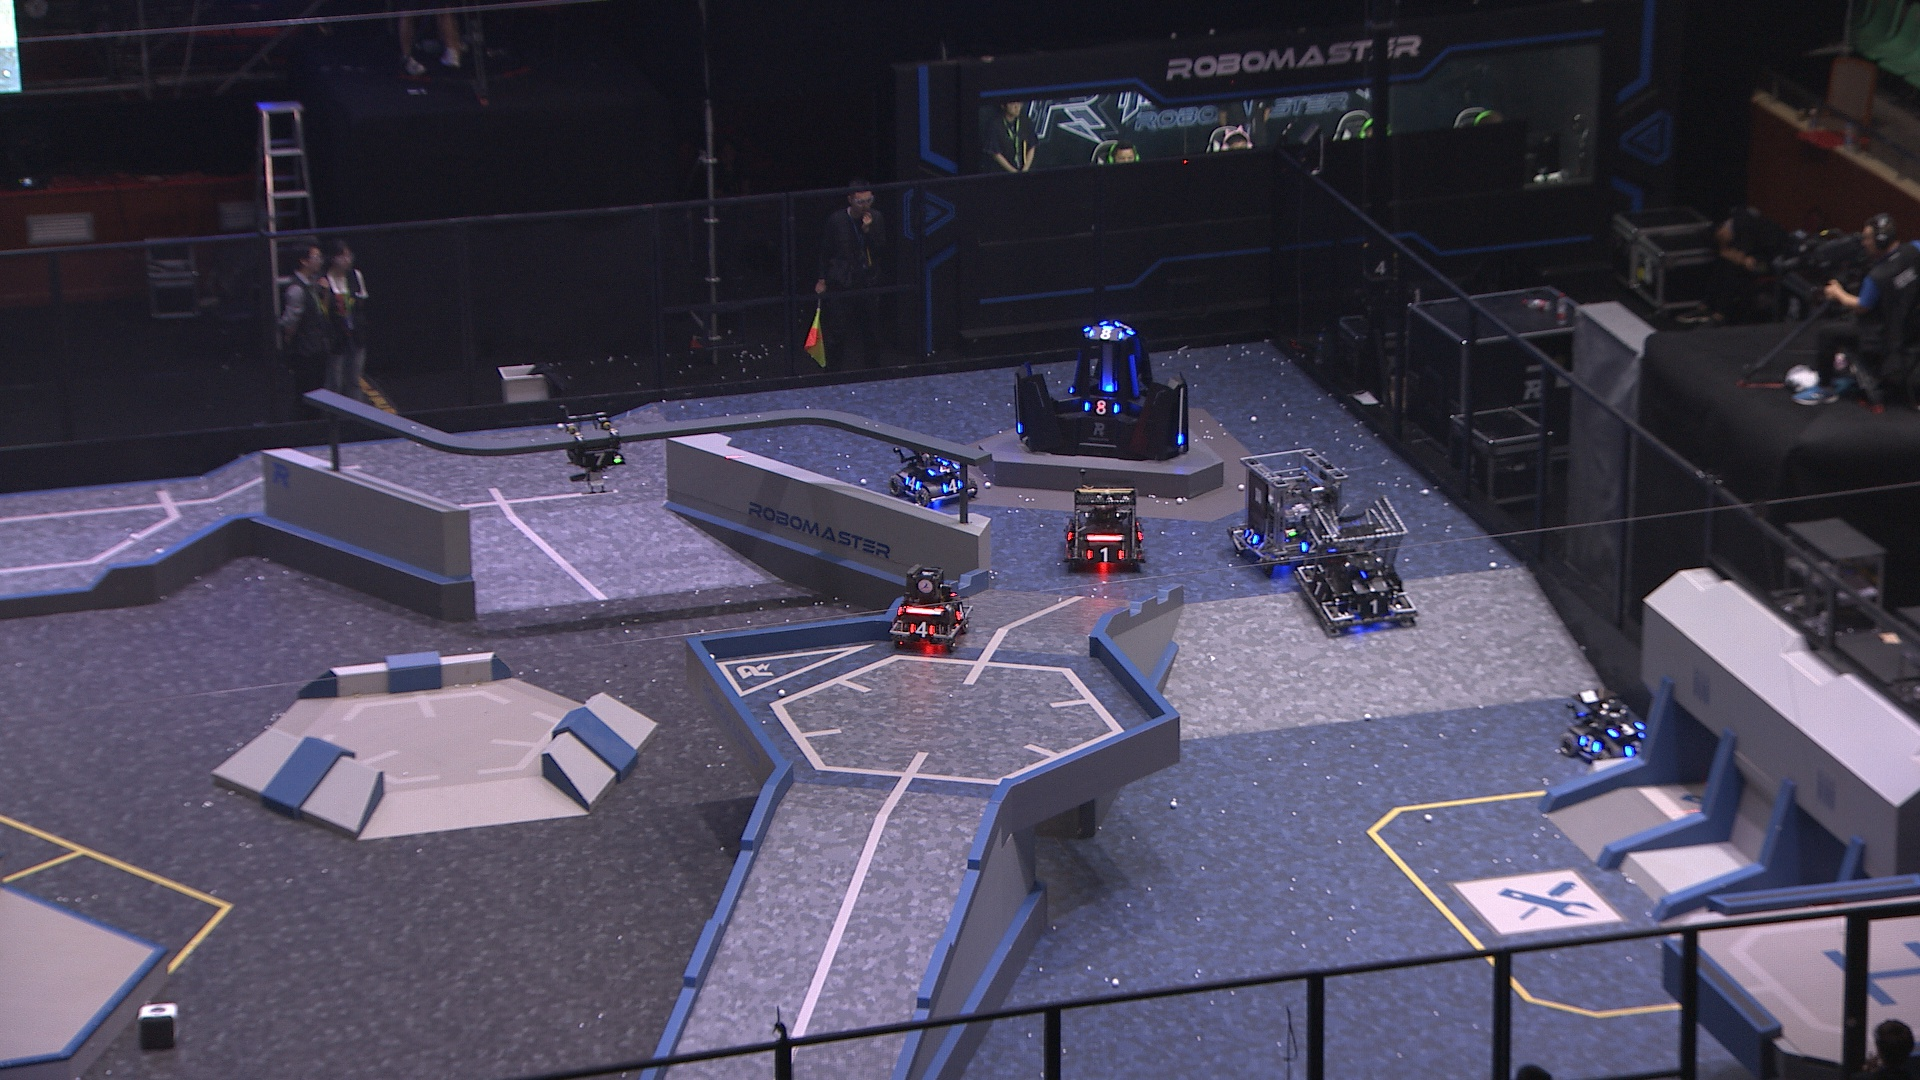armor: (1083, 542, 1130, 567), (1357, 597, 1395, 622), (1605, 717, 1646, 740), (580, 448, 622, 469), (1125, 353, 1145, 396), (1079, 398, 1121, 418), (1348, 576, 1387, 595), (1305, 575, 1332, 603), (1623, 736, 1654, 760), (906, 621, 938, 642), (1088, 324, 1125, 342), (928, 456, 959, 476), (1578, 732, 1604, 756), (899, 472, 926, 495), (939, 475, 967, 496), (1240, 522, 1262, 546), (1300, 535, 1323, 555), (949, 603, 969, 624), (1060, 520, 1077, 542), (1101, 378, 1114, 394), (1011, 423, 1025, 436), (1178, 433, 1185, 447)
base: (1007, 316, 1200, 462)
car: (1294, 498, 1425, 637), (1224, 444, 1348, 578), (1557, 684, 1665, 774), (882, 560, 978, 655), (1060, 481, 1149, 576), (882, 429, 984, 508)
watcher: (556, 406, 626, 496)
